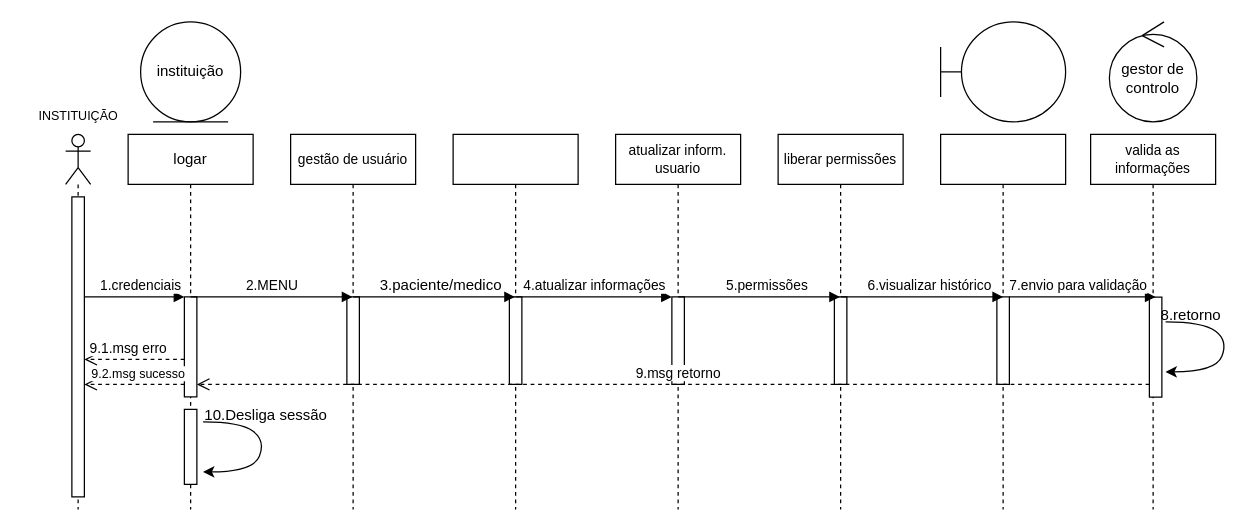
This 1255x531 diagram has some shape labels left out. The box of each missing label's shape, as (x1, y1, x2, y2) in pixels:
cadastrar usuário: (452, 133, 578, 509)
tela de interface: (939, 21, 1066, 122)
visualizar historico de acesso: (939, 133, 1066, 509)
